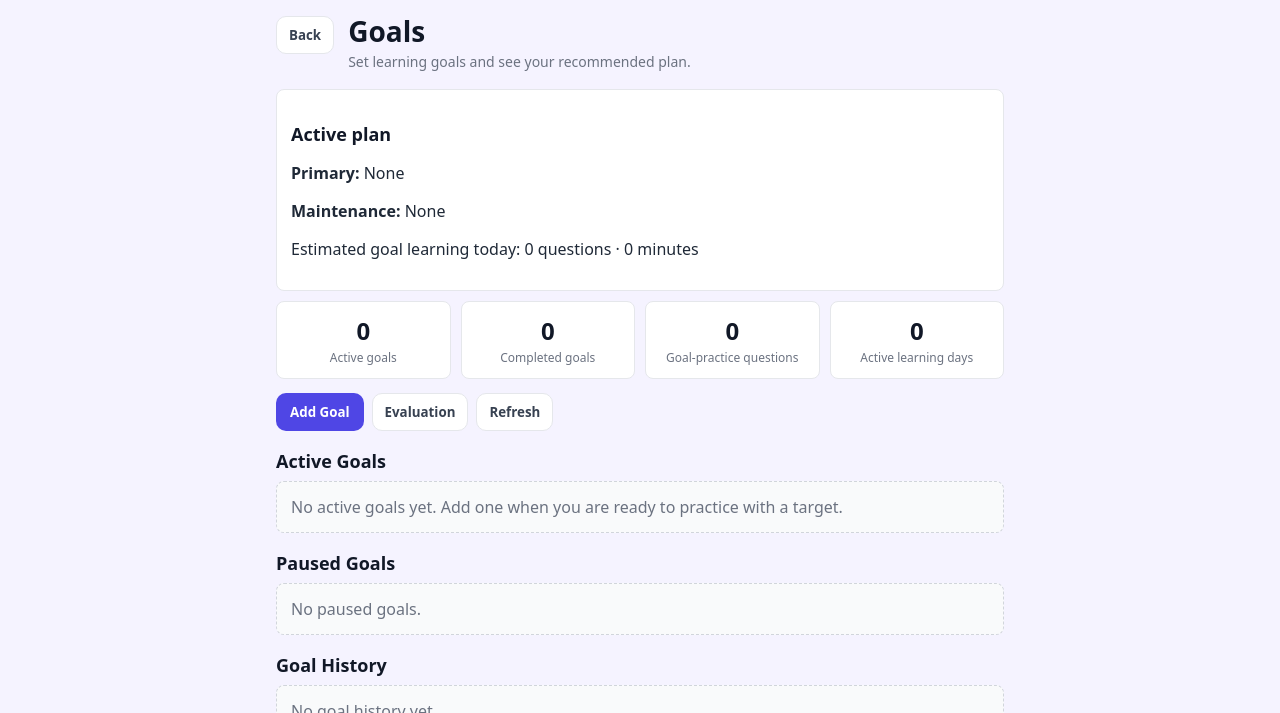
Scenario: GoalsPage › renders real recommendation cards and browse-all skills
This screenshot has width=1280, height=713.
Click the button "Add Goal".
click(320, 412)  # box [276,393,364,431]
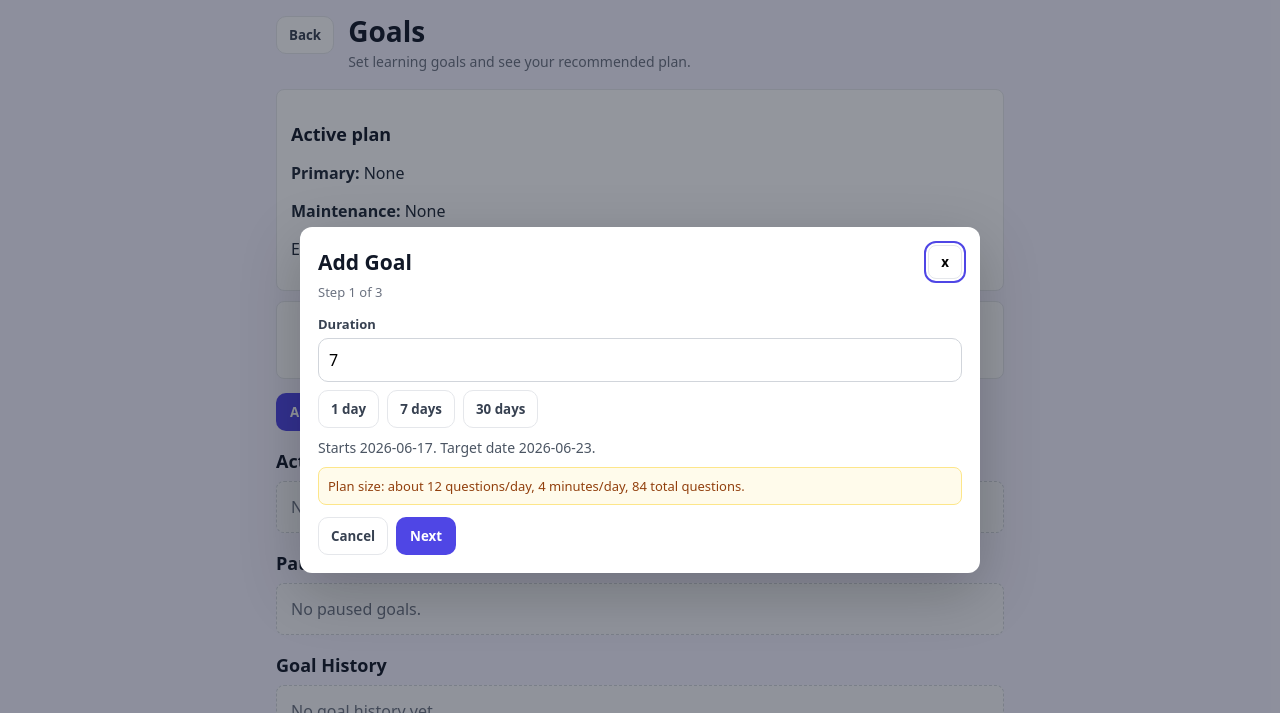
Click the button "Next".
click(426, 536)  # box [396,517,456,555]
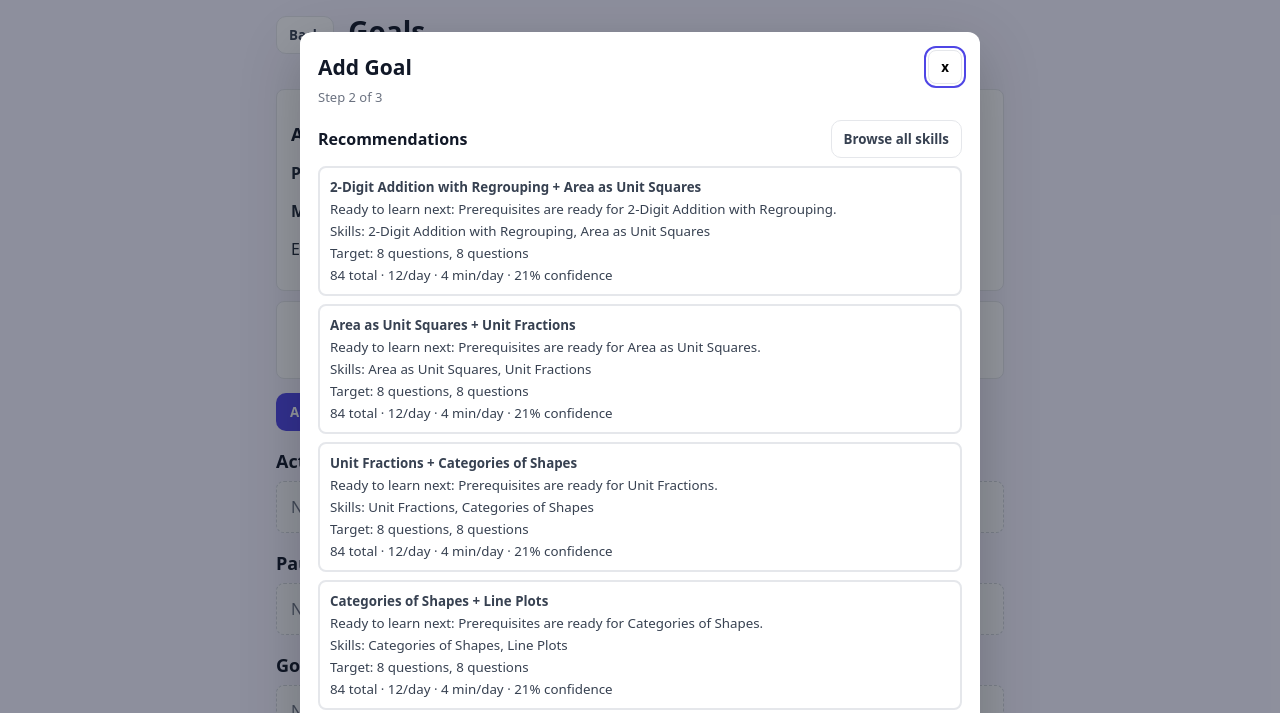
Expected: the heading "Recommendations" is shown, [318,128,468,150]
Expected: the 1st text "84 total · 12/day · 4 min/day · 21% confidence" is shown, [330,266,613,284]
Click the button "Browse all skills".
click(896, 139)  # box [830,120,962,158]
(page scrolled)
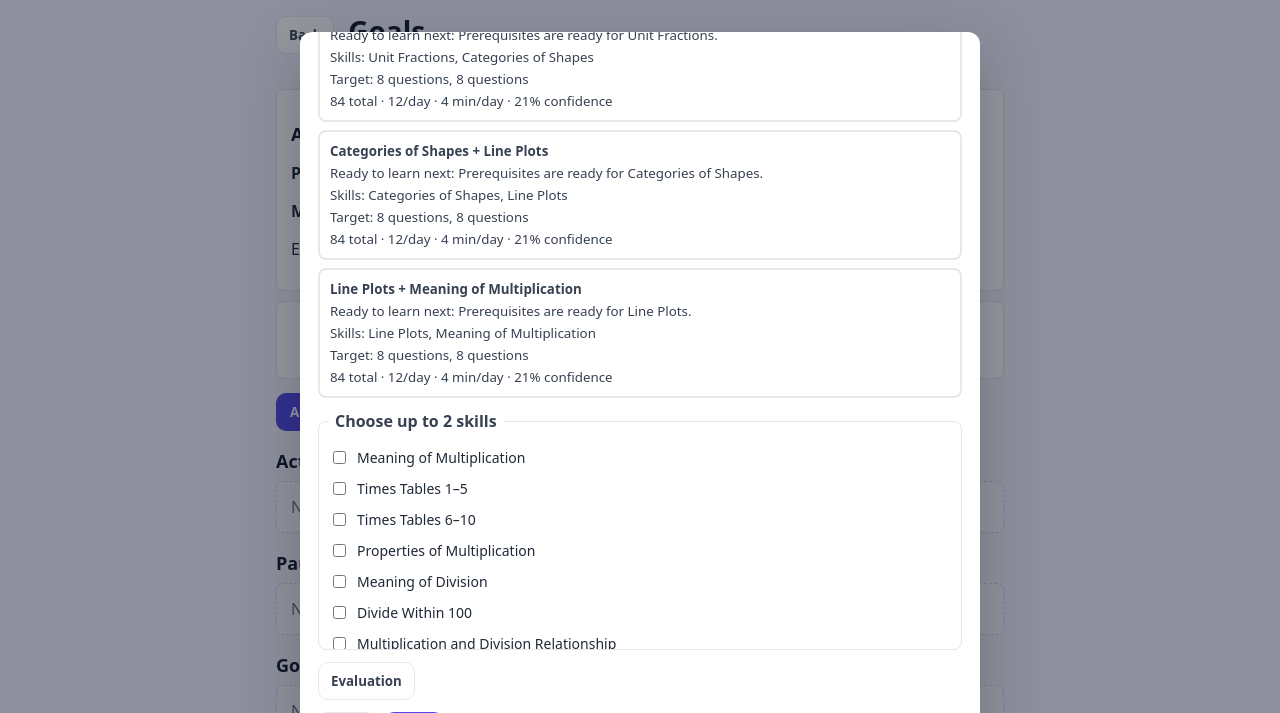
Expected: the text "Choose up to 2 skills" is shown, [329,410,503,432]
Expected: the checkbox labelled "Meaning of Multiplication" is shown, [333,451,346,464]
